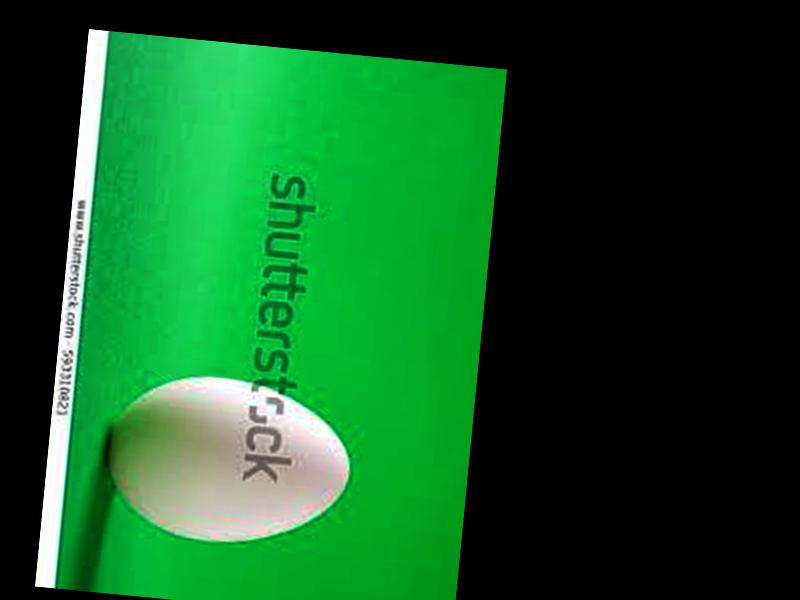Eggs: (96, 367, 356, 555)
